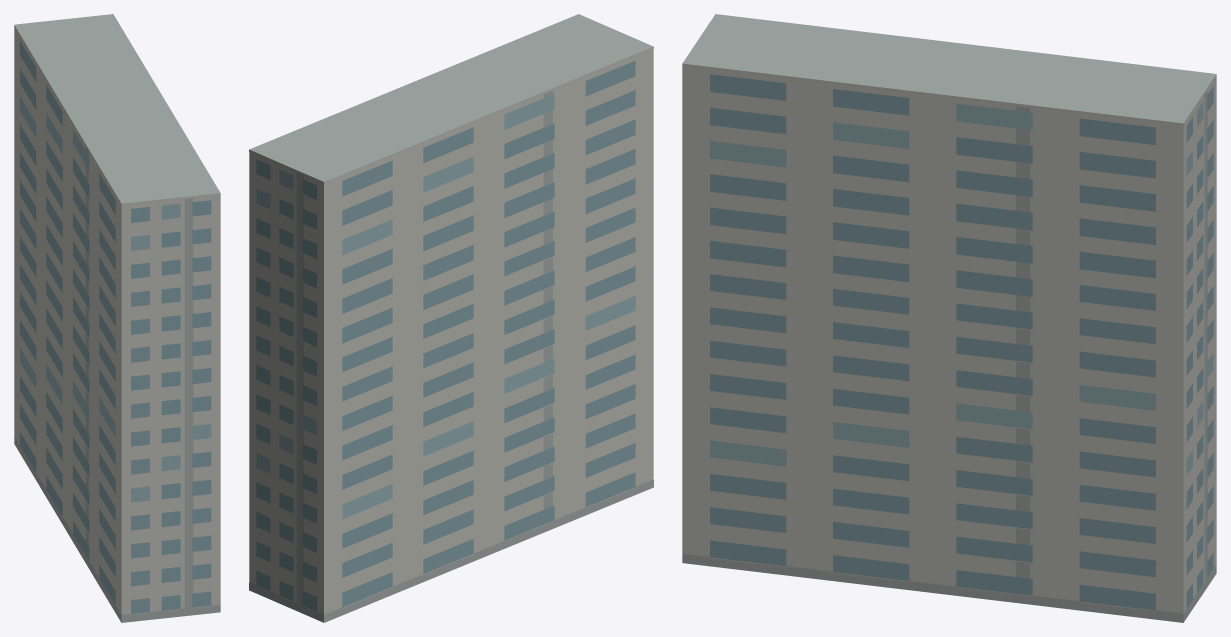
File: residential-2a1bc72d-2c43-4268-b787-c8aab5e3b6e0.glb
3 renders of one model, left to right at view 1: azimuth 30°, elevation 25°; view 2: azimuth 150°, elevation 25°; view 3: azimuth 270°, elevation 25°, orthographic. The views are drawn at different scales.
Visible parts, largest first — view 1: residential-2a1bc72d-2c43-4268-b787-c8aab5e3b6e0.tmp; view 2: residential-2a1bc72d-2c43-4268-b787-c8aab5e3b6e0.tmp; view 3: residential-2a1bc72d-2c43-4268-b787-c8aab5e3b6e0.tmp.
Boxes of the visible parts, box(x1,y1,x2,y2) form: residential-2a1bc72d-2c43-4268-b787-c8aab5e3b6e0.tmp: box(14, 14, 220, 622); residential-2a1bc72d-2c43-4268-b787-c8aab5e3b6e0.tmp: box(249, 14, 653, 622); residential-2a1bc72d-2c43-4268-b787-c8aab5e3b6e0.tmp: box(682, 14, 1216, 622).
Bounding box in the file's own units: 21.16 × 45 × 43.64.
